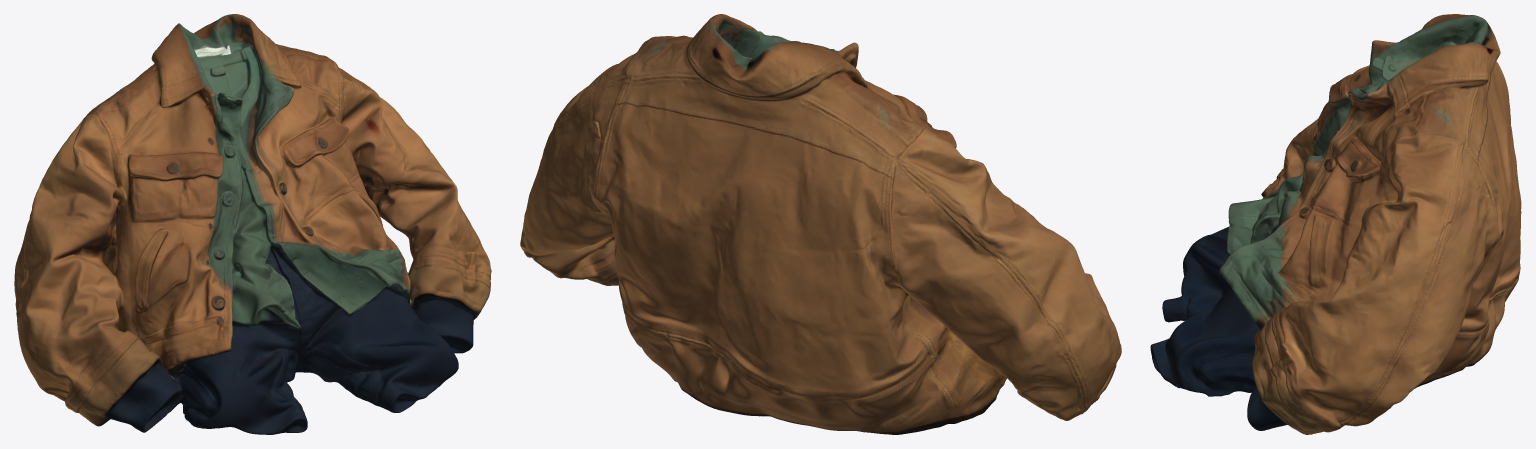
The model's file is AbandonedBloodiedWorkClothes.glb.
3 views of the same model, side by side, from view 1: azimuth 30°, elevation 25°; view 2: azimuth 150°, elevation 25°; view 3: azimuth 270°, elevation 25° (orthographic). The views are drawn at different scales.
Bounding box in the file's own units: 1.9 × 1.25 × 1.28.
Materials: 1 (1 with a texture image).
